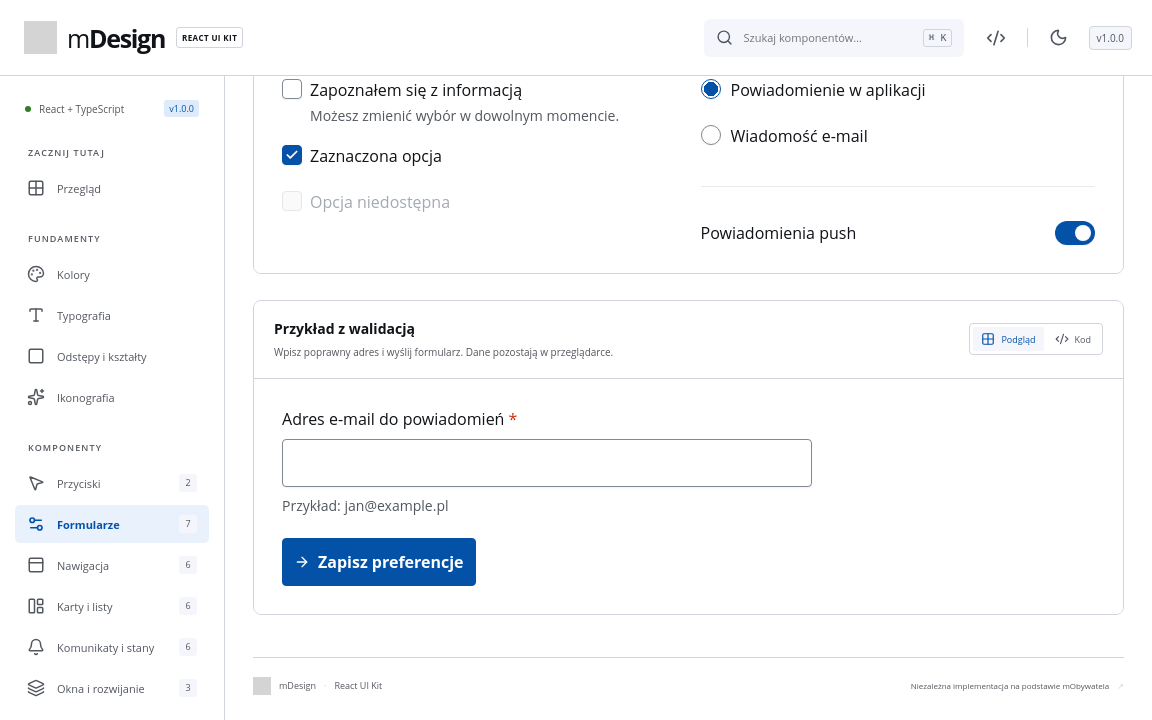
Scenario: catalog integration › validates a real form and clears the error after valid submission
(page scrolled)
Click the button "Zapisz preferencje". click: (379, 562)
box: 282,538 -> 476,586
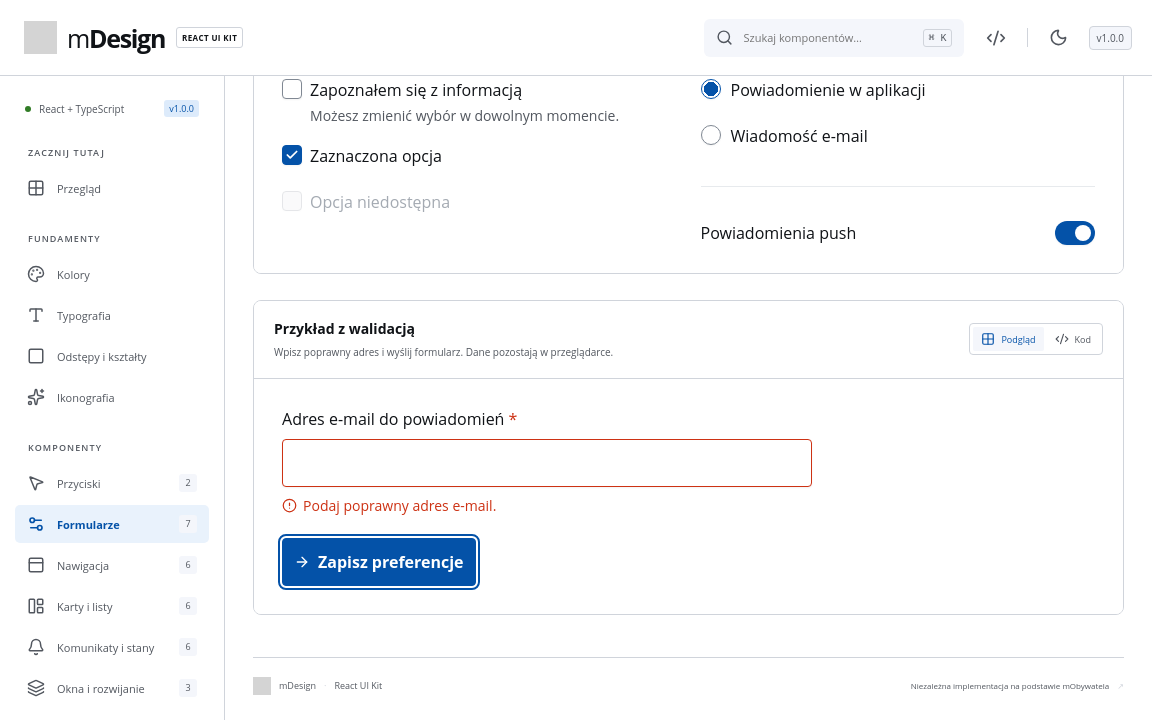
Type "jan@example.pl" into the field labelled "Adres e-mail do powiadomień". click: (547, 463)
box: 282,439 -> 812,487
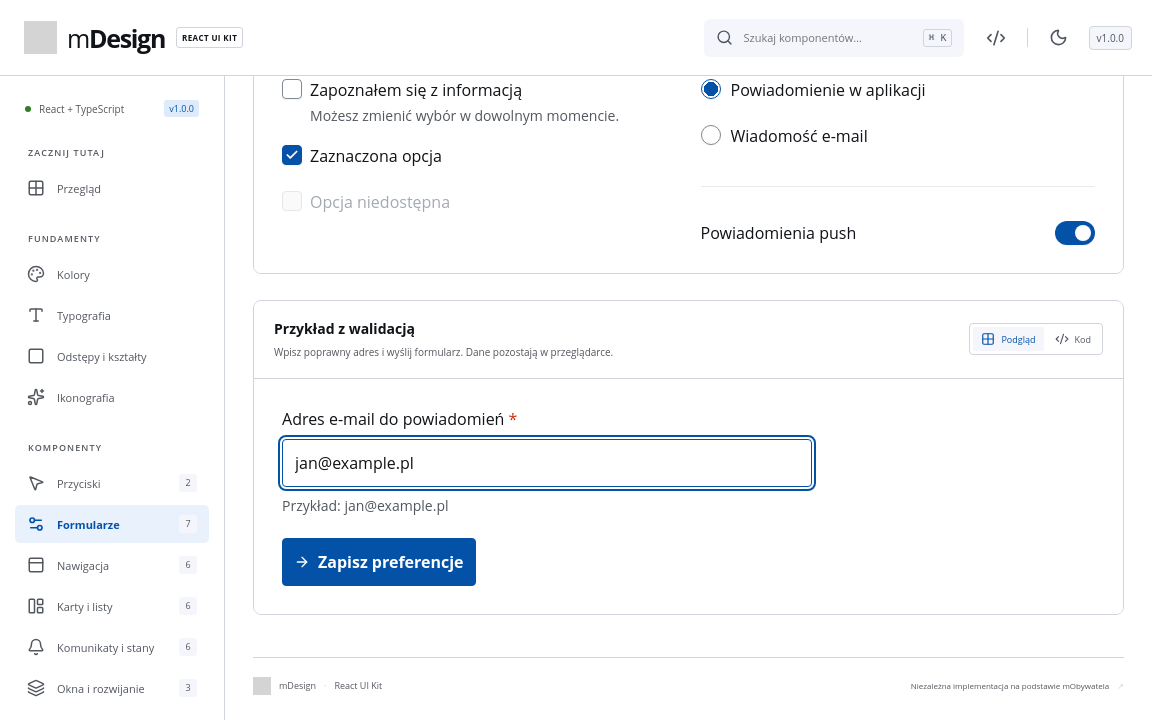
Click the button "Zapisz preferencje". click: (379, 562)
box: 282,538 -> 476,586
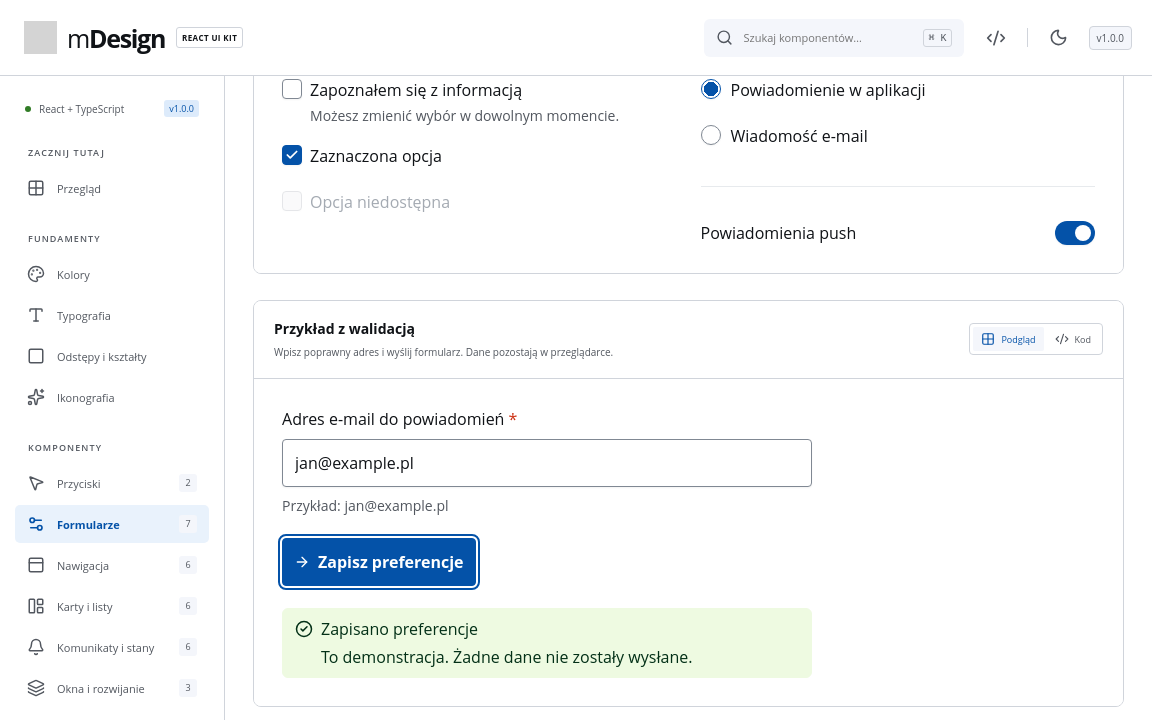
Result: the text "Zapisano preferencje" is shown at 321,618 -> 478,640
